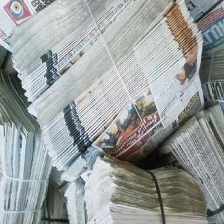news_paper: (3, 0, 214, 171), (62, 151, 208, 223), (0, 65, 61, 224), (152, 100, 224, 224), (0, 0, 66, 61), (172, 0, 223, 59), (191, 51, 224, 115)
